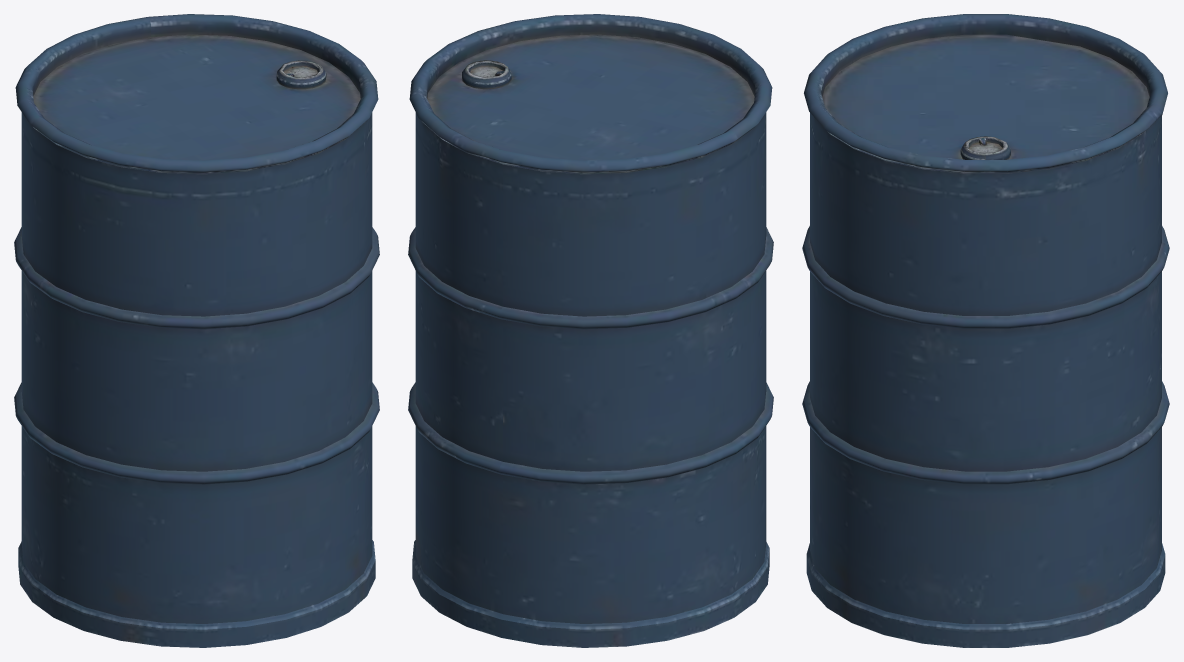
The model's file is drum.glb.
3 views of the same model, side by side, from view 1: azimuth 30°, elevation 25°; view 2: azimuth 150°, elevation 25°; view 3: azimuth 270°, elevation 25° (orthographic).
Visible parts, largest first — view 1: barrel_03; view 2: barrel_03; view 3: barrel_03.
Part boxes in pixels (x1=…): barrel_03: x1=14, y1=14, x2=379, y2=647; barrel_03: x1=408, y1=14, x2=773, y2=647; barrel_03: x1=802, y1=14, x2=1169, y2=647.
Size of the model in its own units: 0.634 by 0.9305 by 0.6386.
Materials: 1 (1 with a texture image).
